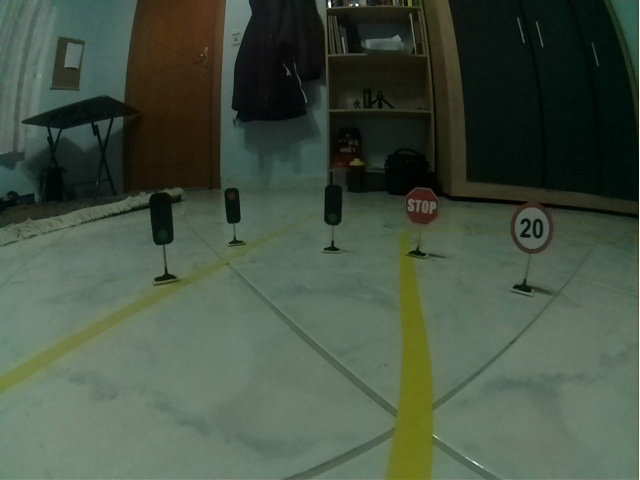Green Traffic Light: (149, 192, 174, 245), (324, 184, 343, 226)
Red Traffic Light: (224, 187, 241, 224)
Speed Limit 20: (510, 202, 554, 255)
Stop: (404, 187, 440, 226)
